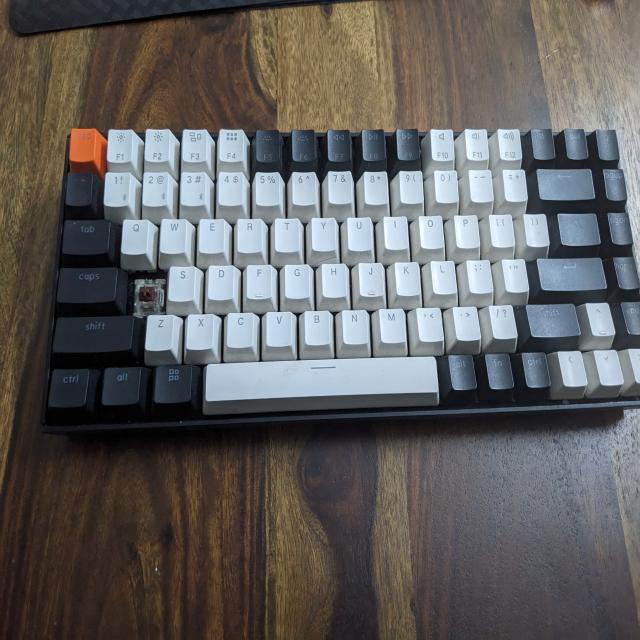C: (132, 275, 165, 313)
